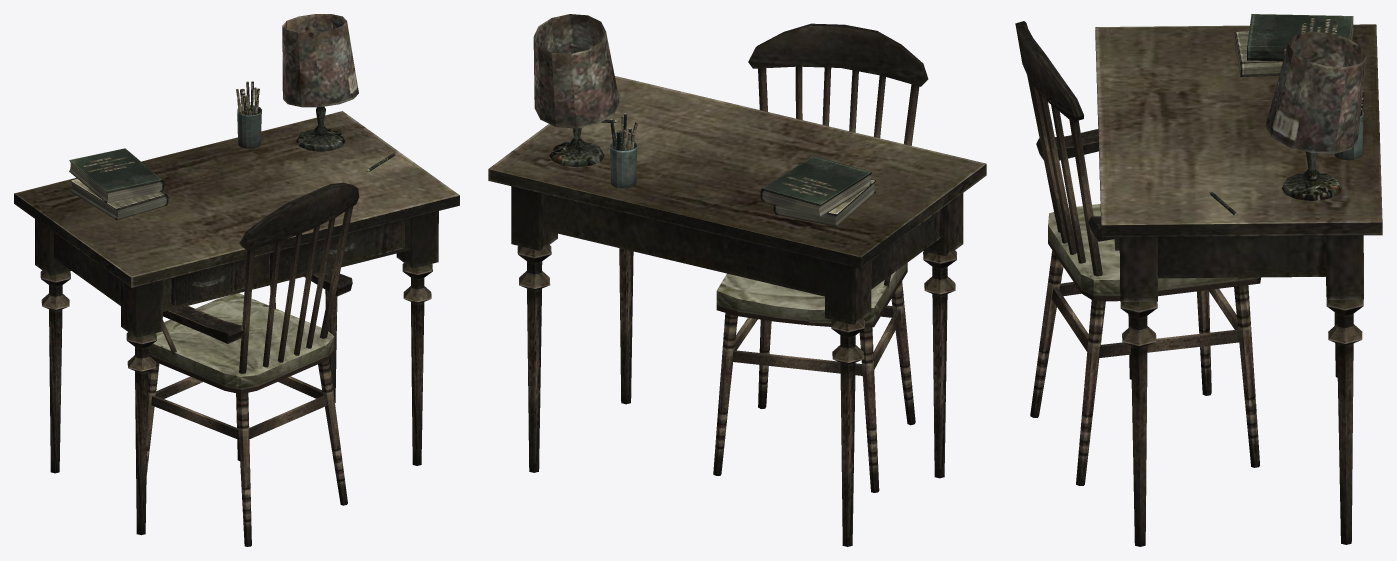
File: old table and chair.fbx
The picture shows the model from 3 angles, left to right: view 1: azimuth 30°, elevation 25°; view 2: azimuth 150°, elevation 25°; view 3: azimuth 270°, elevation 25°; orthographic projection. The views are drawn at different scales.
Parts seen in each view (by area): view 1: skpBD3A1, Group1, Group2; view 2: skpBD3A1, Group1, Group2; view 3: skpBD3A1, Group1, Group2.
Boxes of the visible parts, left/top/right/bottom form: skpBD3A1: left=14, top=111, right=459, bottom=546; Group1: left=236, top=14, right=395, bottom=171; Group2: left=69, top=148, right=168, bottom=220; skpBD3A1: left=488, top=23, right=986, bottom=546; Group1: left=533, top=14, right=638, bottom=188; Group2: left=760, top=156, right=875, bottom=226; skpBD3A1: left=1015, top=21, right=1382, bottom=546; Group1: left=1209, top=31, right=1366, bottom=216; Group2: left=1234, top=14, right=1353, bottom=76.
Bounding box in the file's own units: 1.28 × 1.45 × 0.9946.
